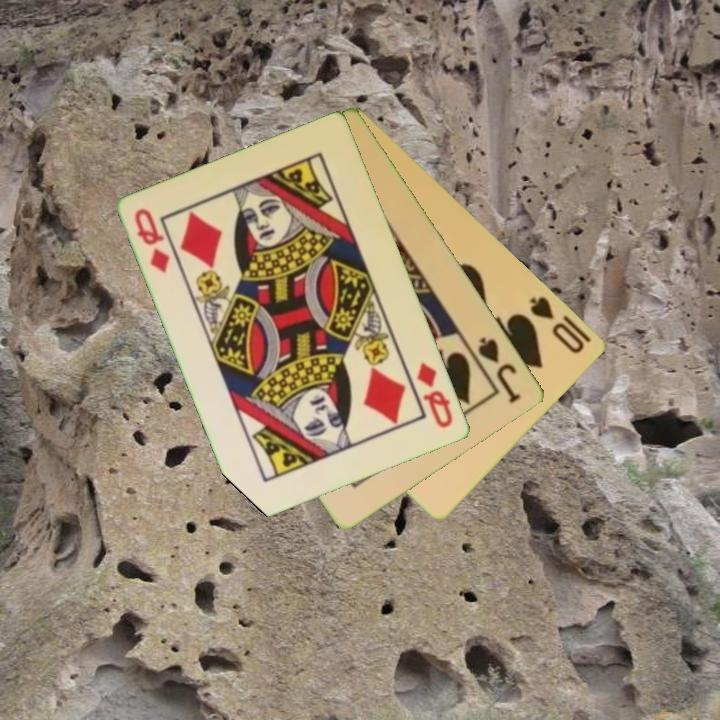10s: (526, 293, 588, 357)
Js: (475, 333, 525, 407)
Qd: (413, 358, 457, 432), (131, 205, 174, 277)
